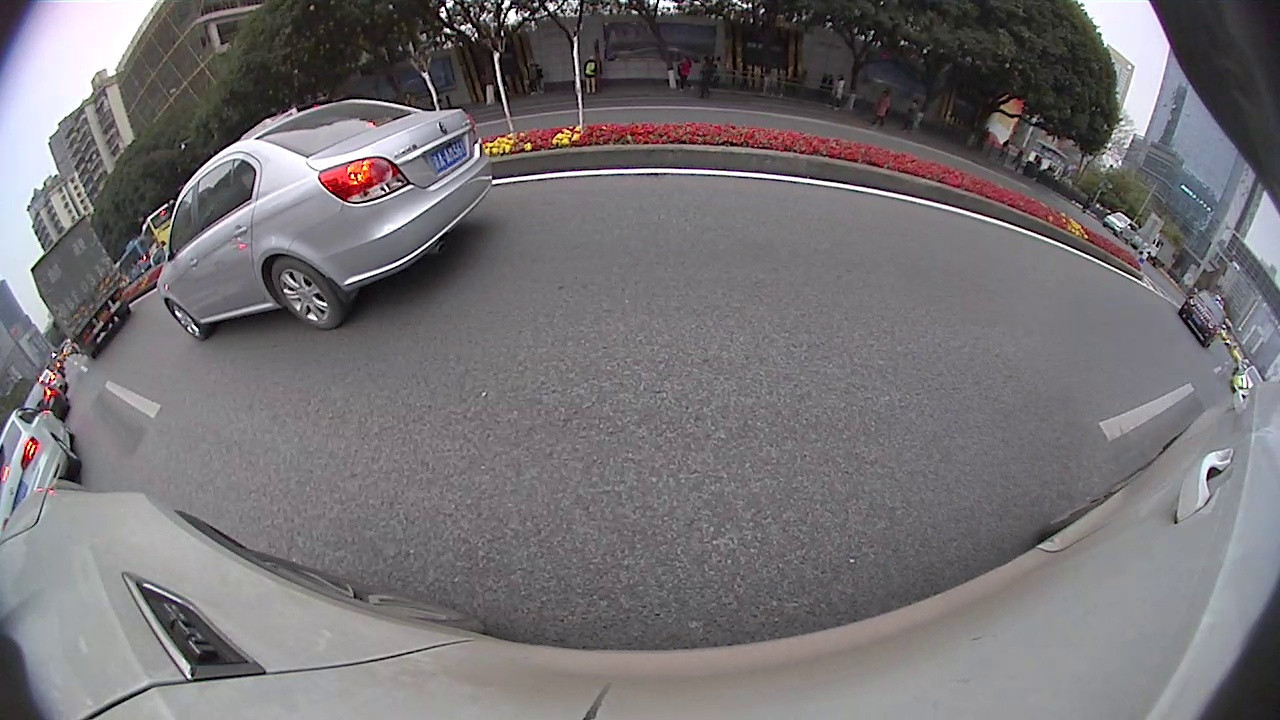bus: (137, 201, 186, 268)
car: (156, 97, 497, 341), (2, 406, 82, 530), (1178, 287, 1230, 348), (21, 380, 69, 426), (1231, 364, 1268, 396)
front: (167, 293, 205, 342)
rear: (267, 251, 346, 333), (53, 435, 77, 466)
truck: (30, 213, 133, 363)
